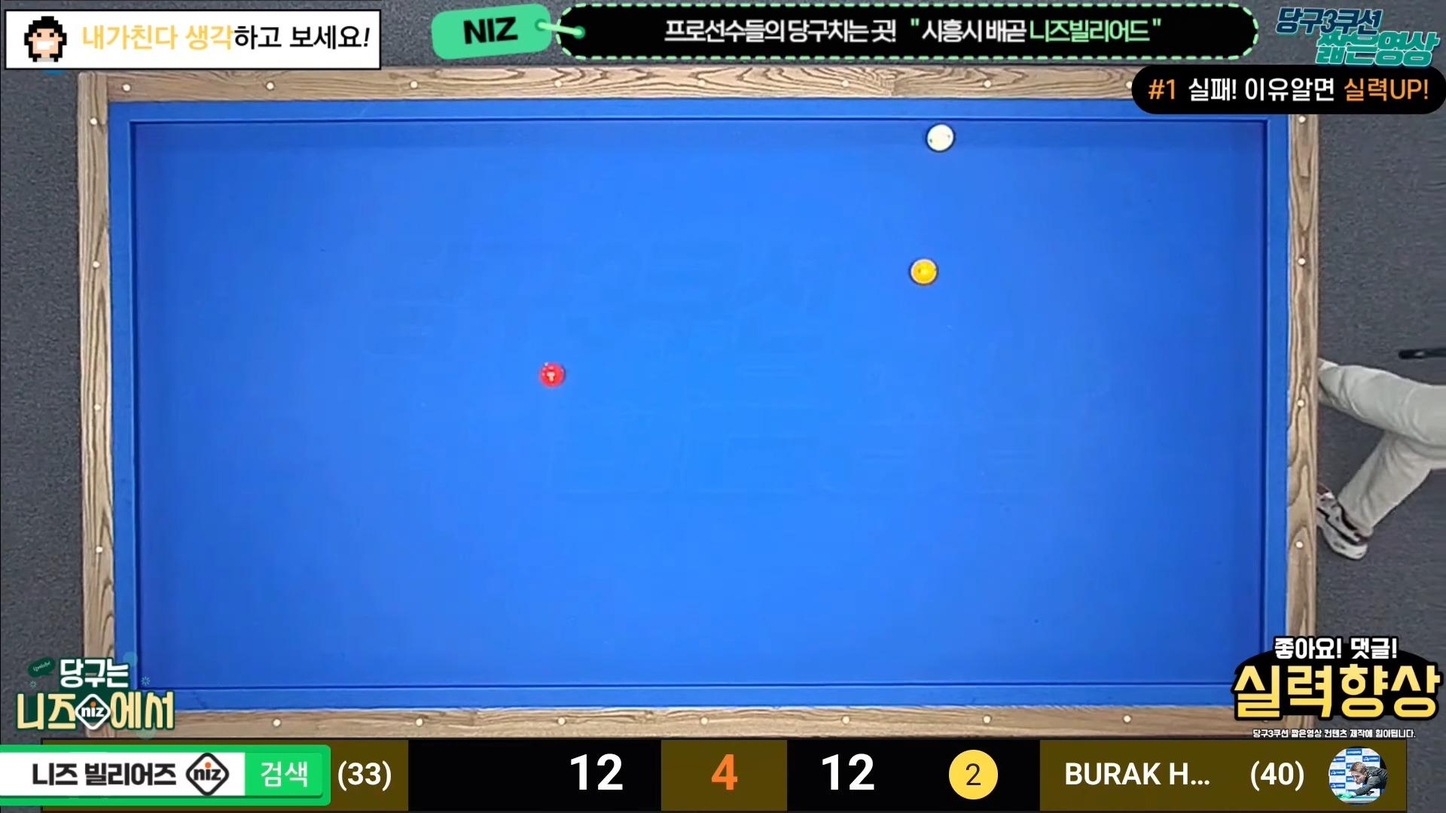-billiard-ball: (925, 123, 955, 152), (908, 257, 938, 285)
Red: (537, 362, 571, 388)
White: (926, 125, 961, 154)
Yellow: (906, 259, 940, 287)
